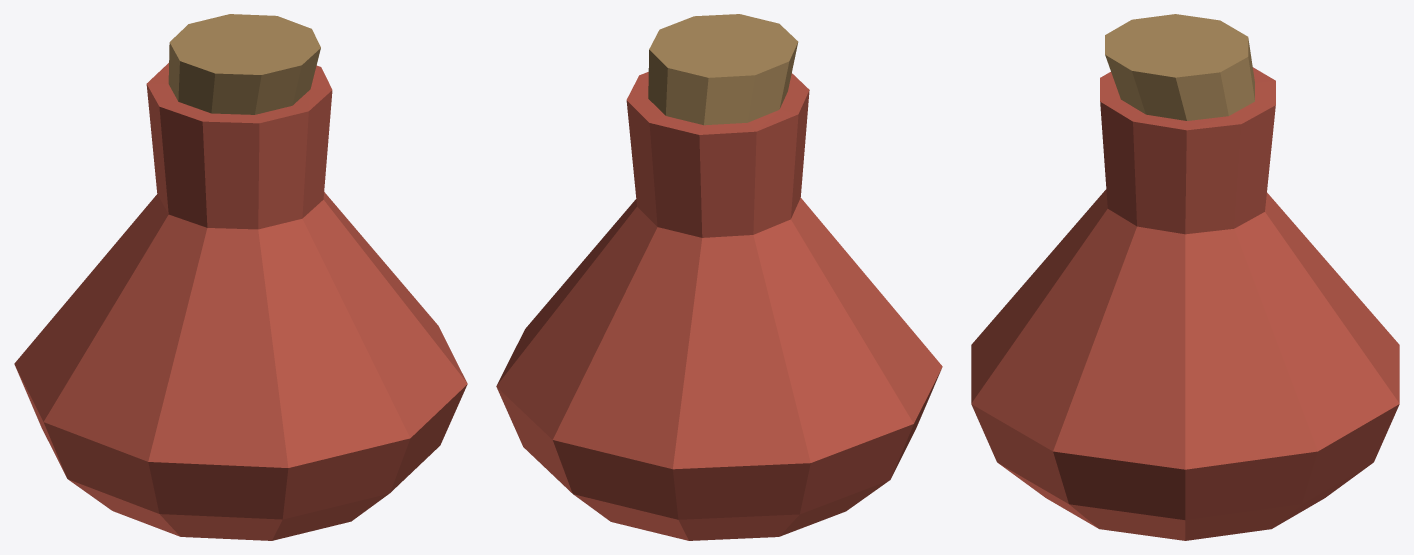
Rendered from Bottle_Red.fbx.
3 renders of one model, left to right at view 1: azimuth 30°, elevation 25°; view 2: azimuth 150°, elevation 25°; view 3: azimuth 270°, elevation 25°, orthographic.
Visible parts, largest first — view 1: pCone2; view 2: pCone2; view 3: pCone2.
Part boxes in pixels (x1=…): pCone2: x1=14, y1=14, x2=467, y2=540; pCone2: x1=496, y1=14, x2=942, y2=540; pCone2: x1=971, y1=14, x2=1399, y2=540.
Bounding box in the file's own units: 2.07 × 2.2 × 1.97.
